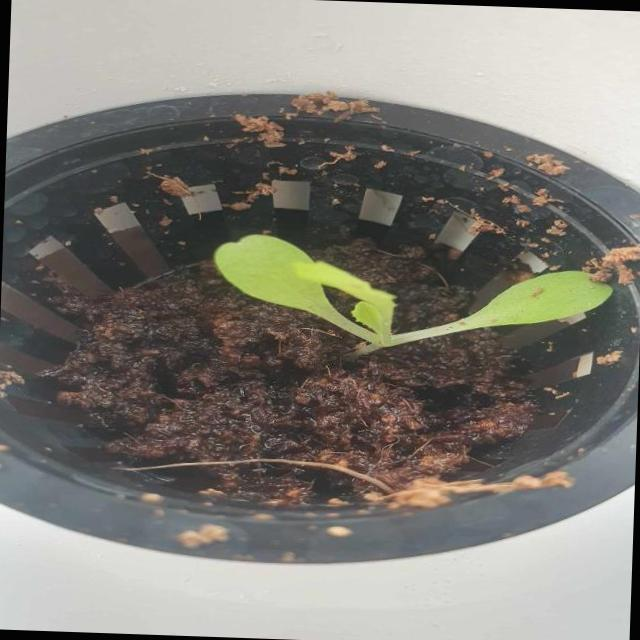Lettuce-Not-Ready-to-Harvest: (215, 235, 611, 352)
